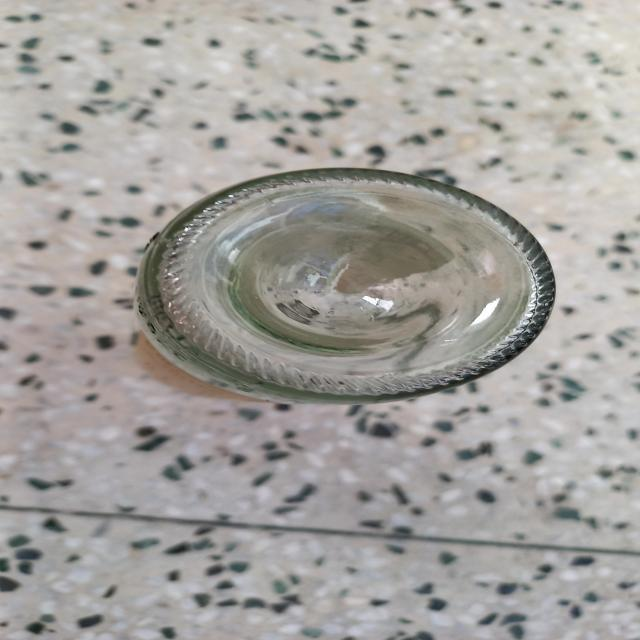Glass: (133, 166, 554, 404)
